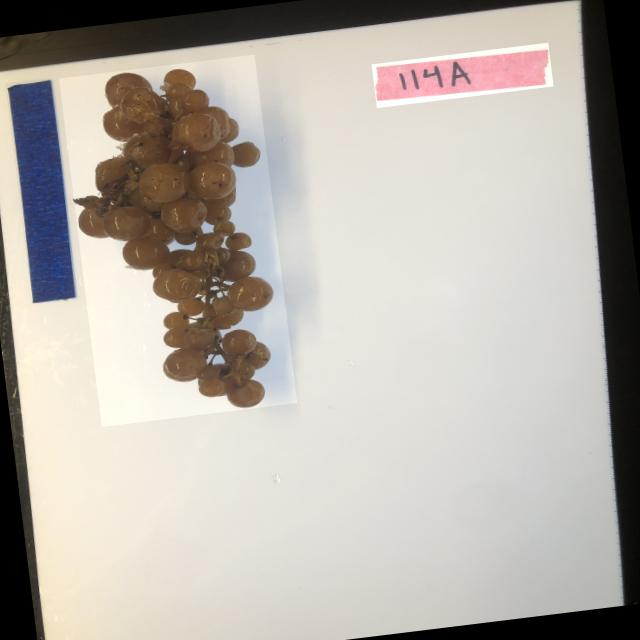grape_cluster: (58, 54, 296, 426)
index: (371, 42, 553, 108)
measure_label: (4, 77, 78, 304)
